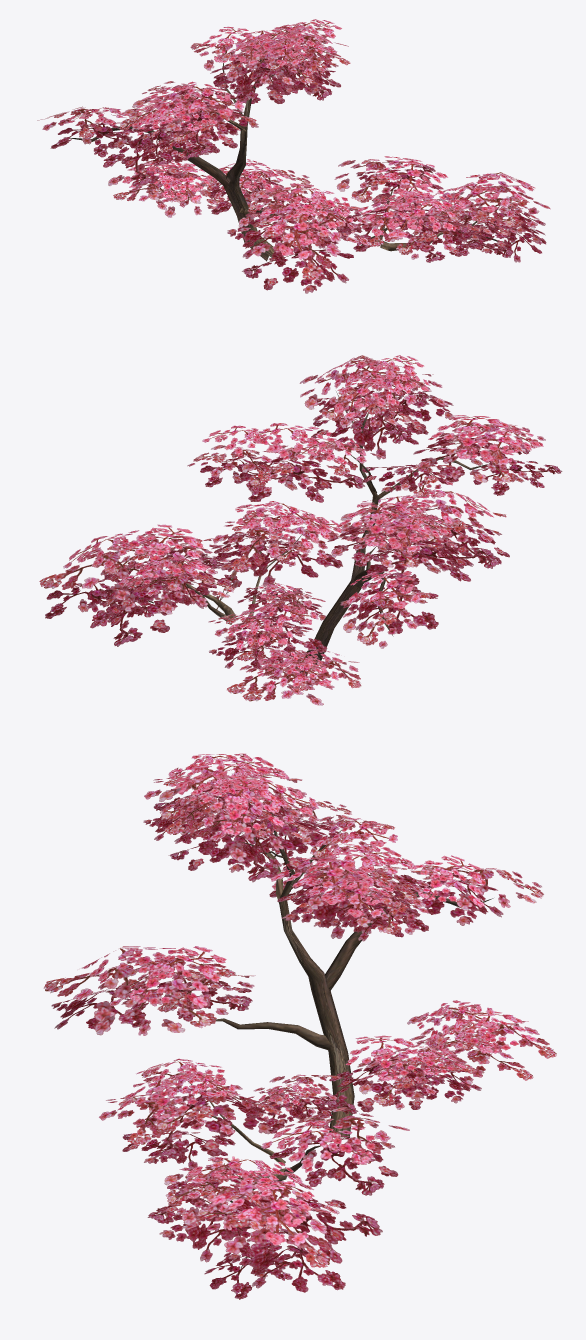
File: S_Tree_Red002_A3.FBX
3 views of the same model, one above another, from view 1: azimuth 30°, elevation 25°; view 2: azimuth 150°, elevation 25°; view 3: azimuth 270°, elevation 25° (orthographic). The views are drawn at different scales.
Visible parts, largest first — view 1: S_Tree_Red002_A3_2, S_Tree_Red002_A3_1; view 2: S_Tree_Red002_A3_2, S_Tree_Red002_A3_1; view 3: S_Tree_Red002_A3_2, S_Tree_Red002_A3_1.
Part boxes in pixels (x1,y1,x2,y2): S_Tree_Red002_A3_2: (37, 19, 550, 293); S_Tree_Red002_A3_1: (64, 53, 515, 261); S_Tree_Red002_A3_2: (39, 355, 562, 705); S_Tree_Red002_A3_1: (139, 391, 490, 673); S_Tree_Red002_A3_2: (43, 753, 556, 1299); S_Tree_Red002_A3_1: (188, 813, 493, 1268).
Size of the model in its own units: 697 by 397 by 545.
